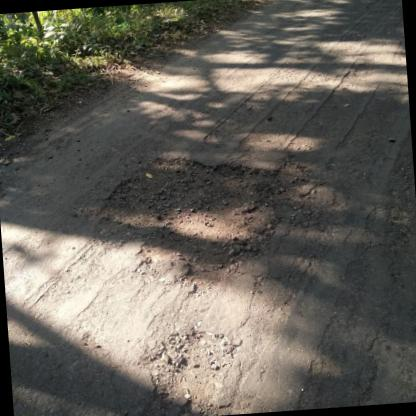pothole: (93, 148, 316, 298), (142, 326, 243, 416)
